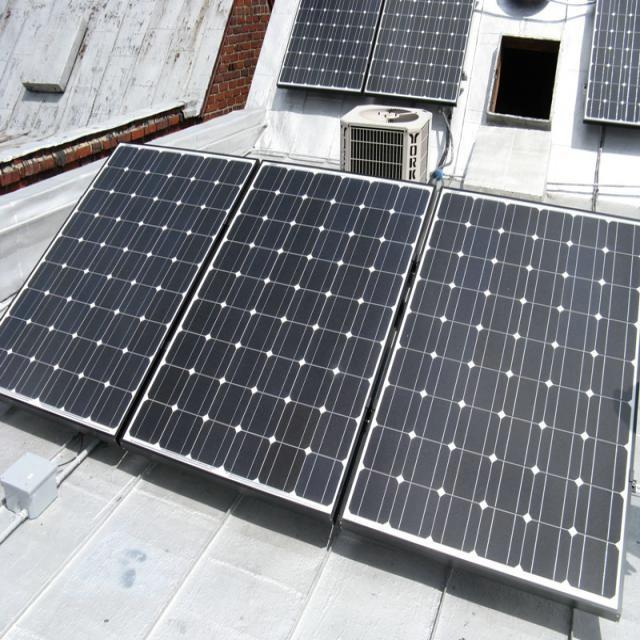no faulty: (0, 147, 635, 600), (277, 2, 470, 102), (585, 0, 640, 133)
